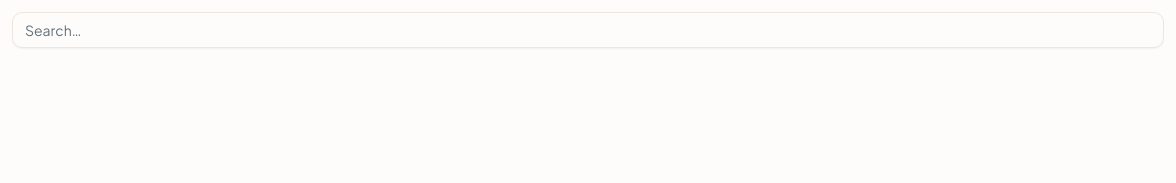
Test: SearchPicker › closes on blur and still shows the selected value -- previously it stayed open with a blank input
The image size is (1176, 183).
Focus the field with placeholder "Search…" at (588, 30), box [12,12,1164,48]
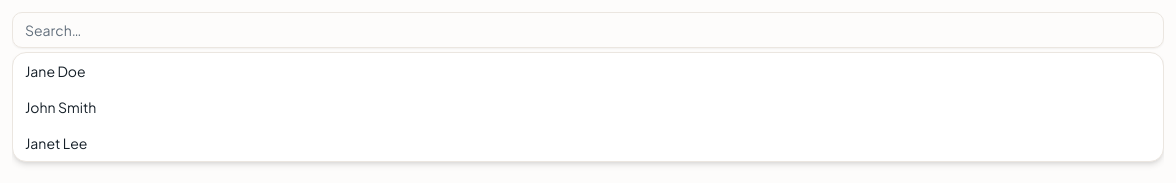
Press the mouse on the option "Jane Doe" at (55, 71), box [13,53,1163,89]
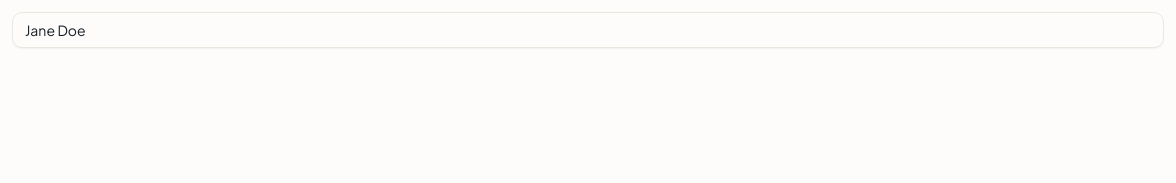
Check: the field with placeholder "Search…" holds "Jane Doe"
# Focus again (clears the query to browse), then leave without choosing.
Focus the field with placeholder "Search…" at (588, 30), box [12,12,1164,48]
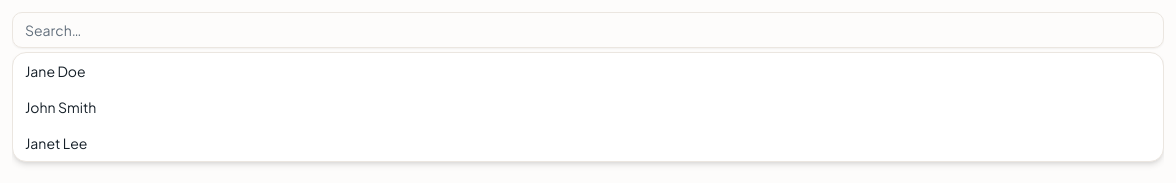
Check: the list is shown, box [12,52,1164,162]
Leave the field with placeholder "Search…", box [12,12,1164,48]
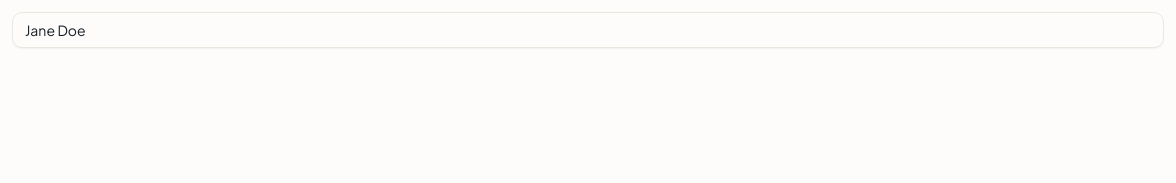
Check: the list is gone
Check: the field with placeholder "Search…" holds "Jane Doe", box [12,12,1164,48]
